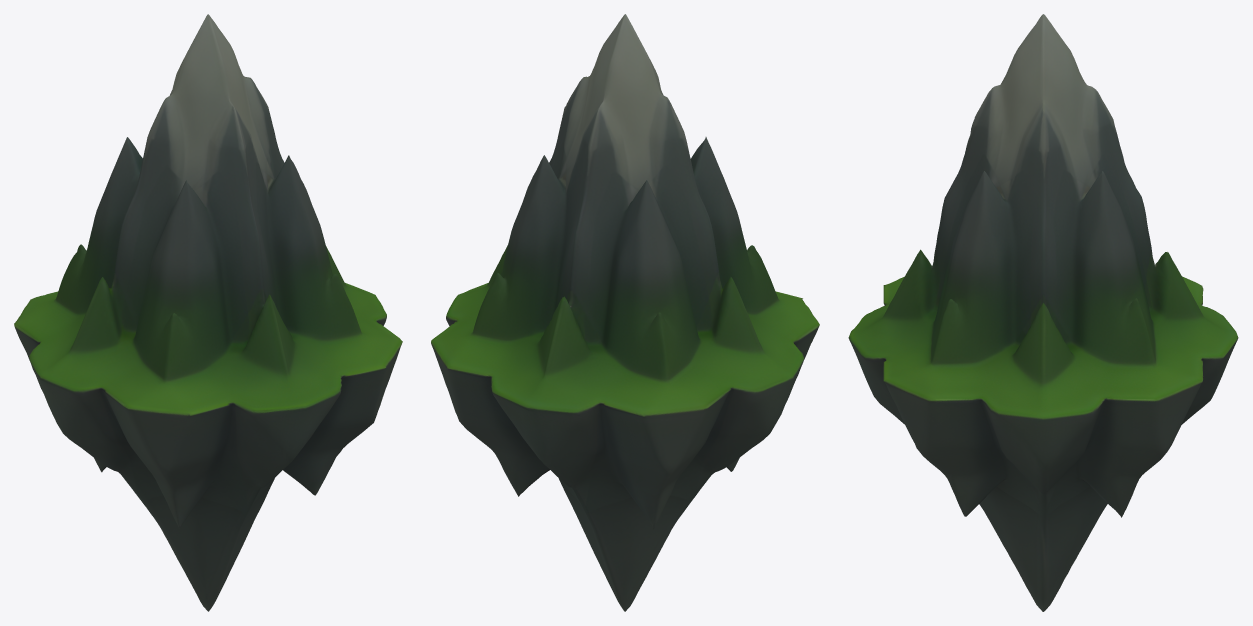
The model's file is rocky_island.glb.
3 views of the same model, side by side, from view 1: azimuth 30°, elevation 25°; view 2: azimuth 150°, elevation 25°; view 3: azimuth 270°, elevation 25° (orthographic).
Visible parts, largest first — view 1: model; view 2: model; view 3: model.
Boxes of the visible parts, x1,y1,x2,y2 form: model: (14, 14, 402, 611); model: (431, 14, 819, 611); model: (848, 14, 1238, 611).
Size of the model in its own units: 1.11 by 1.89 by 1.12.
Materials: 1 (1 with a texture image).
